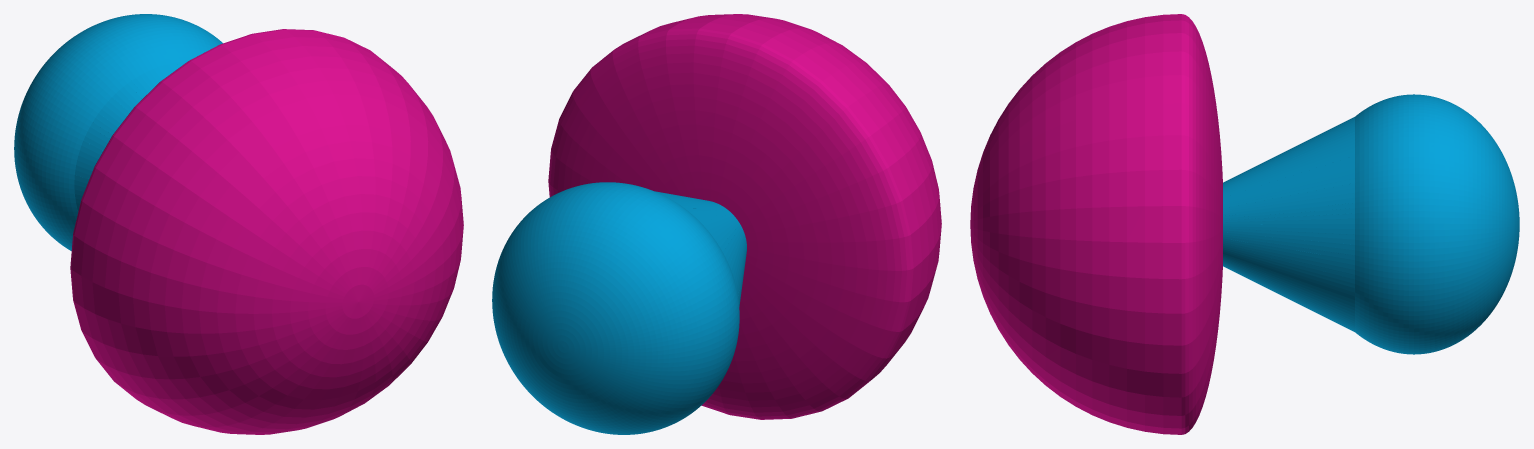
The model's file is tinker.obj.
The picture shows the model from 3 angles, left to right: view 1: azimuth 30°, elevation 25°; view 2: azimuth 150°, elevation 25°; view 3: azimuth 270°, elevation 25°; orthographic projection.
Visible parts, largest first — view 1: group_0_14093196, group_0_40919; view 2: group_0_14093196, group_0_40919; view 3: group_0_14093196, group_0_40919.
Part boxes in pixels (x1=…): group_0_14093196: x1=70, y1=29, x2=463, y2=434; group_0_40919: x1=14, y1=14, x2=222, y2=250; group_0_14093196: x1=548, y1=14, x2=941, y2=419; group_0_40919: x1=492, y1=182, x2=746, y2=434; group_0_14093196: x1=970, y1=14, x2=1222, y2=434; group_0_40919: x1=1223, y1=94, x2=1519, y2=354.
Bounding box in the file's own units: 20 × 20 × 26.
